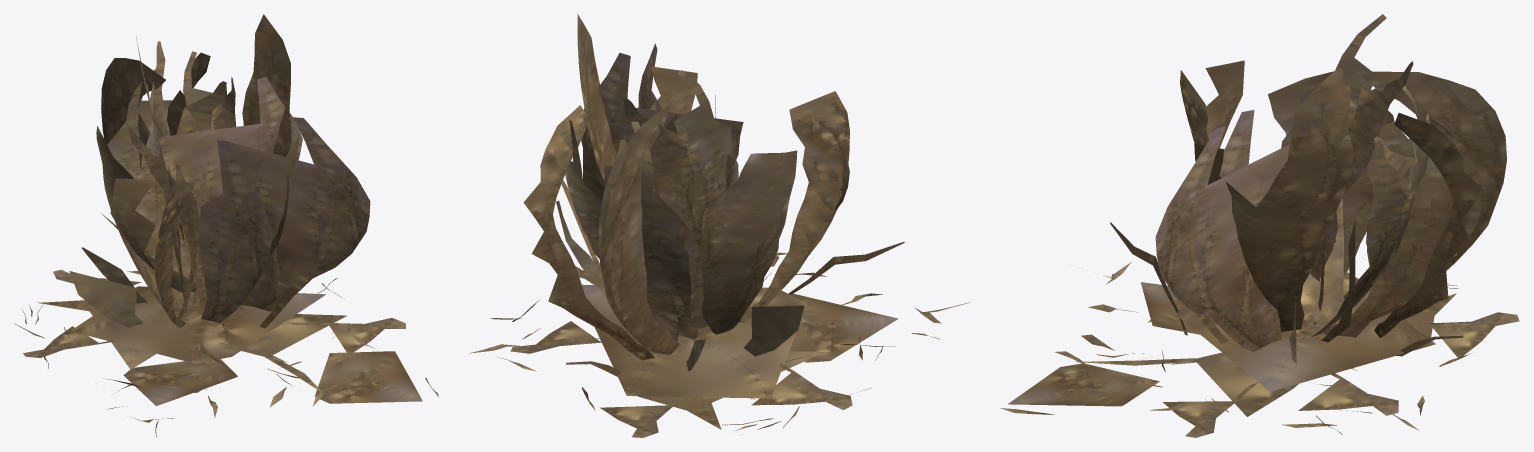
Rendered from SM_Weed_2.fbx.
The picture shows the model from 3 angles, left to right: view 1: azimuth 30°, elevation 25°; view 2: azimuth 150°, elevation 25°; view 3: azimuth 270°, elevation 25°; orthographic projection. The views are drawn at different scales.
Parts seen in each view (by area): view 1: SM_Weed_2_LOD0; view 2: SM_Weed_2_LOD0; view 3: SM_Weed_2_LOD0.
Boxes of the visible parts, <box> form: SM_Weed_2_LOD0: <box>14,14,438,437</box>; SM_Weed_2_LOD0: <box>468,14,969,437</box>; SM_Weed_2_LOD0: <box>1000,14,1519,437</box>.
Size of the model in its own units: 59.17 by 72.15 by 52.76.
1 material, 1 textured.
